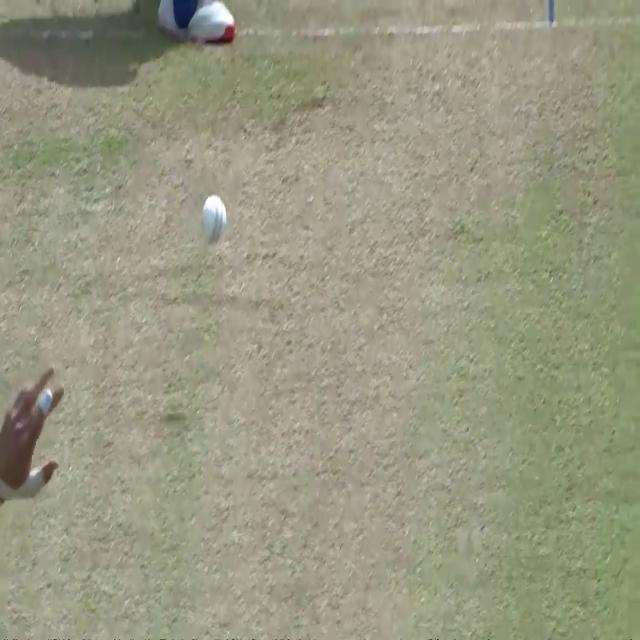ball: (200, 195, 226, 240)
